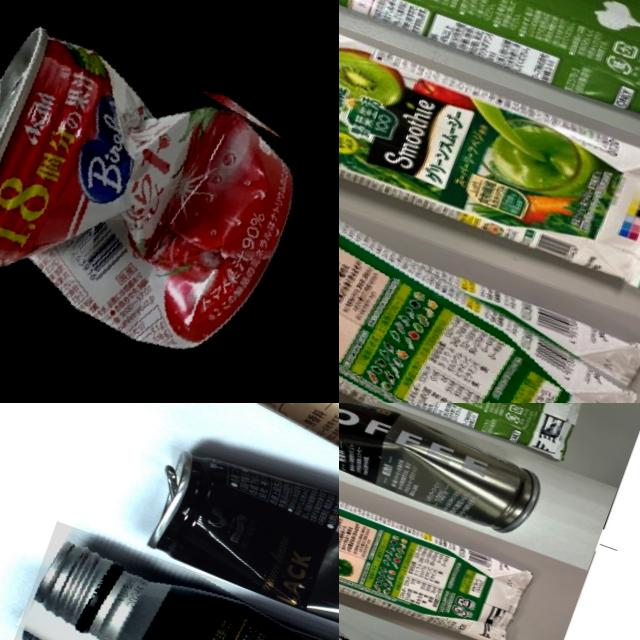Aluminium Foil: (339, 0, 640, 302), (339, 135, 640, 403), (339, 0, 640, 145), (339, 461, 541, 640), (339, 403, 593, 464)
Can: (0, 0, 334, 403), (133, 436, 339, 640), (0, 520, 339, 640), (339, 403, 543, 536), (182, 403, 339, 564), (339, 553, 485, 640)
